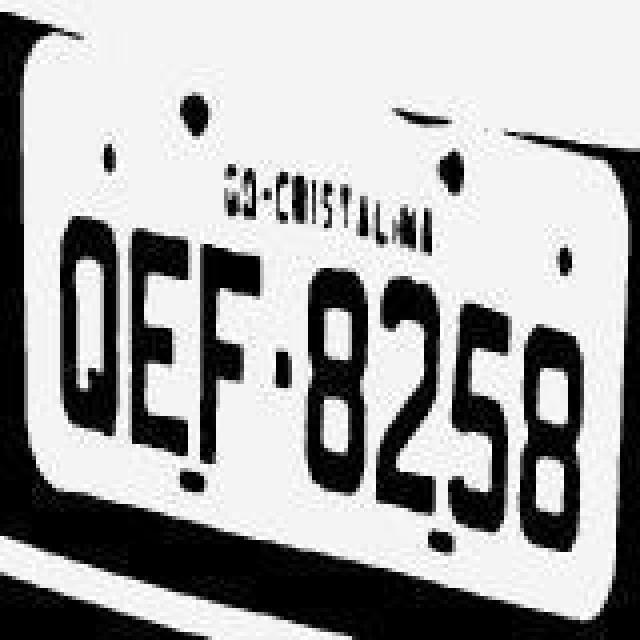2: (376, 268, 448, 516)
5: (450, 296, 518, 528)
8: (302, 262, 370, 490), (522, 320, 590, 544)
E: (122, 222, 190, 458)
F: (194, 236, 262, 468)
Q: (56, 212, 120, 444)
